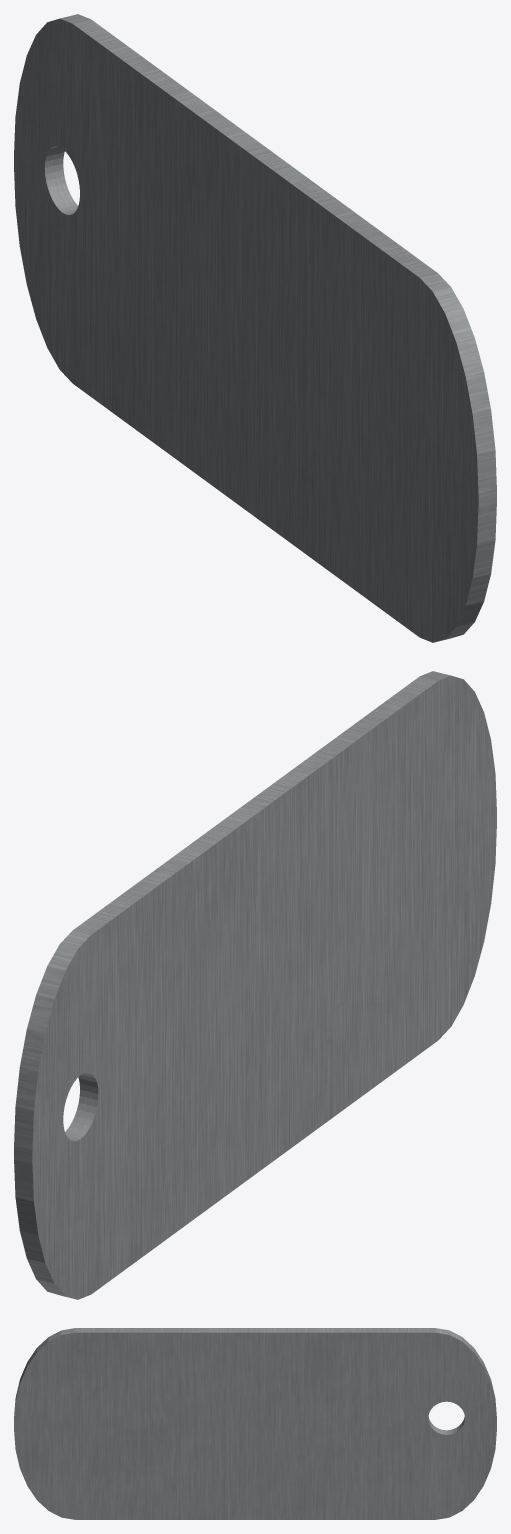
File: DogTag.glb
The picture shows the model from 3 angles, top to bottom: view 1: azimuth 30°, elevation 25°; view 2: azimuth 150°, elevation 25°; view 3: azimuth 270°, elevation 25°; orthographic projection. The views are drawn at different scales.
Visible parts, largest first — view 1: Cube; view 2: Cube; view 3: Cube.
Part boxes in pixels (box(x1,y1,x2,y2)): Cube: box(14, 14, 496, 642); Cube: box(14, 671, 496, 1299); Cube: box(14, 1328, 496, 1519).
Size of the model in its own units: 0.0533 by 0.9911 by 2.32.
1 material, 1 textured.
